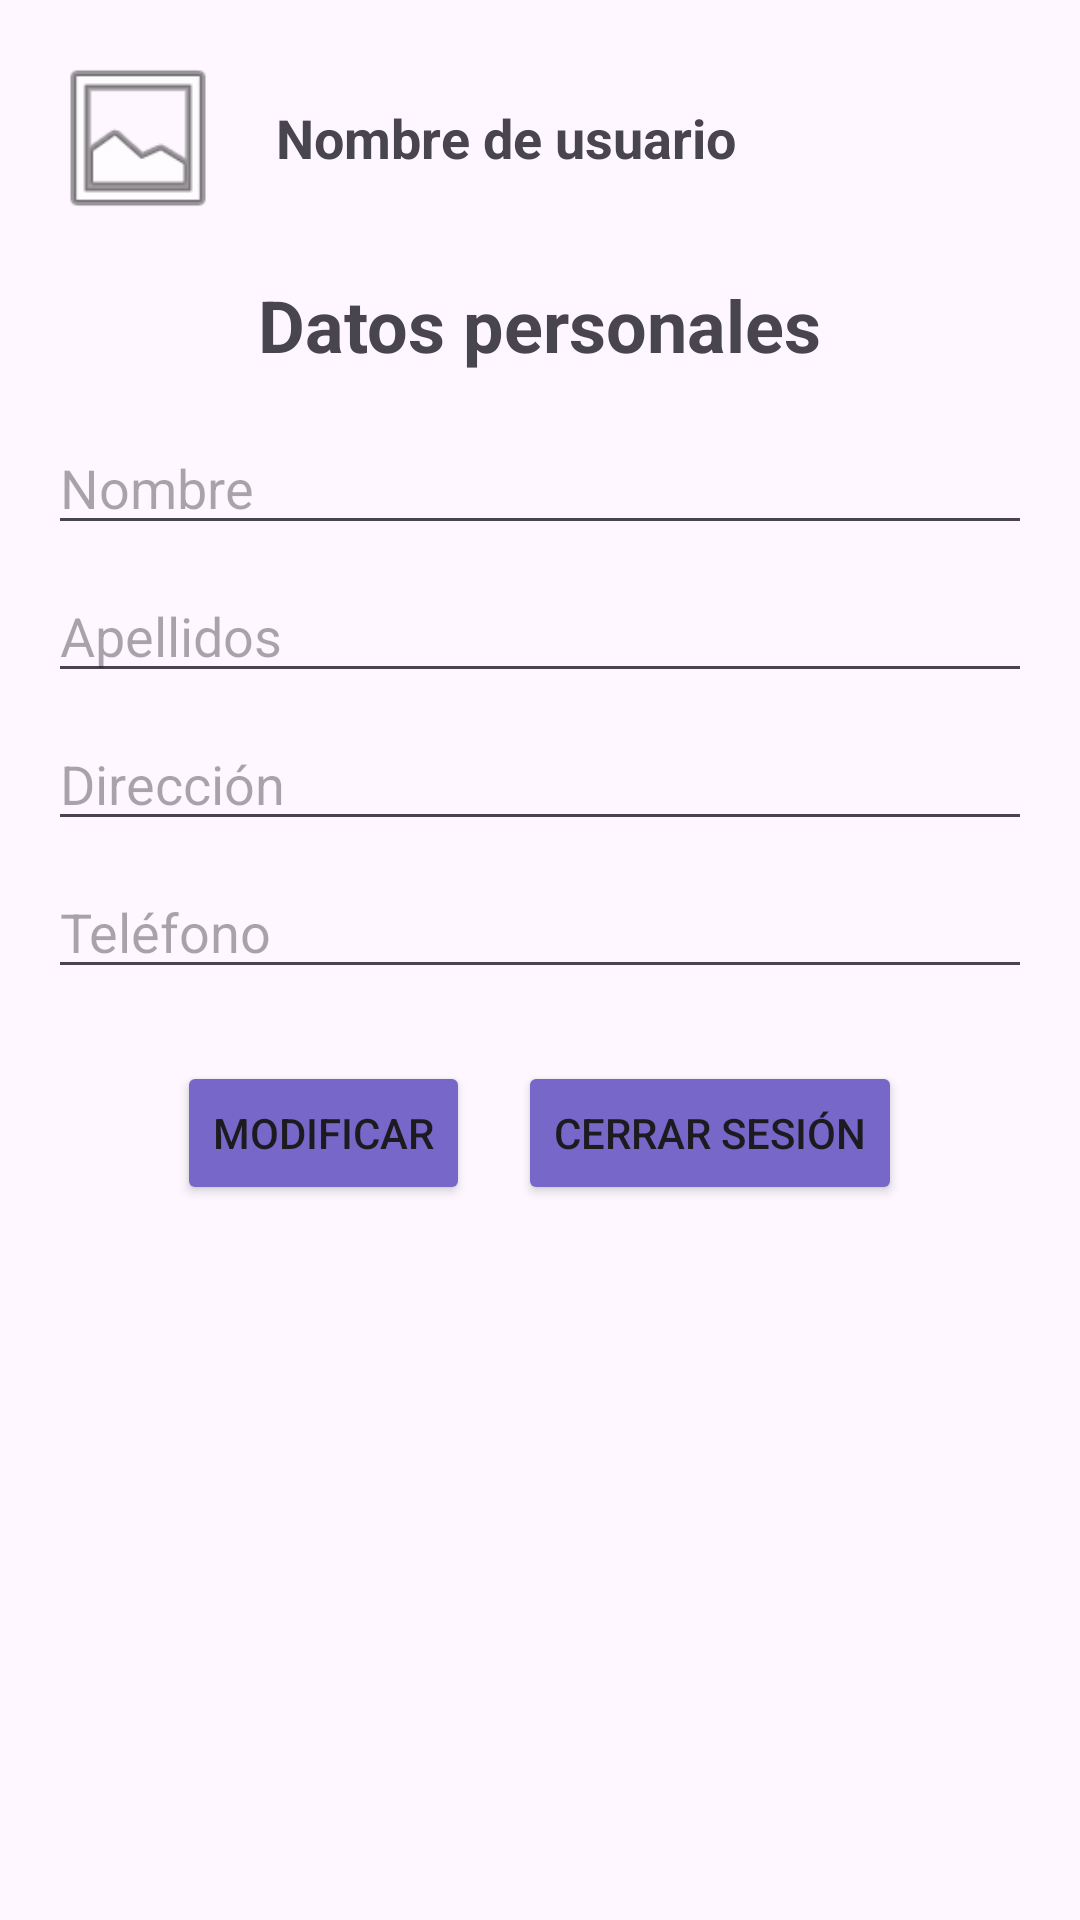

Point at icon controls on the screen. Image size 1080x1920, points as point (x, y).
gallery: point (138, 138)
